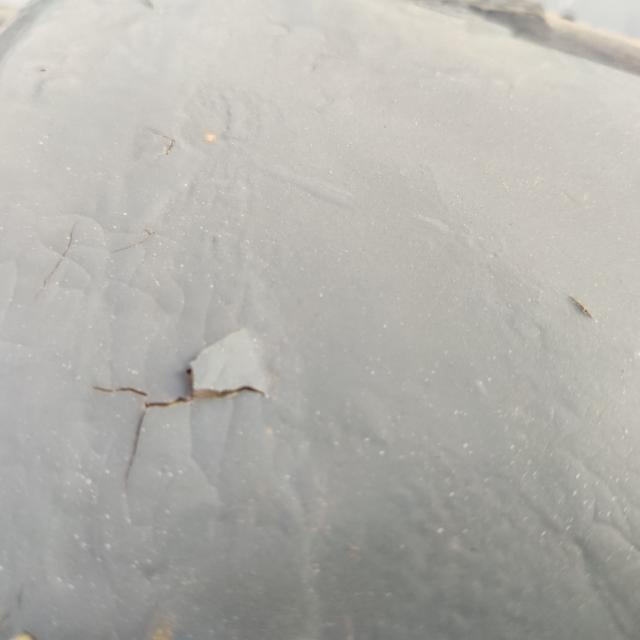paint-off: (73, 318, 310, 501)
